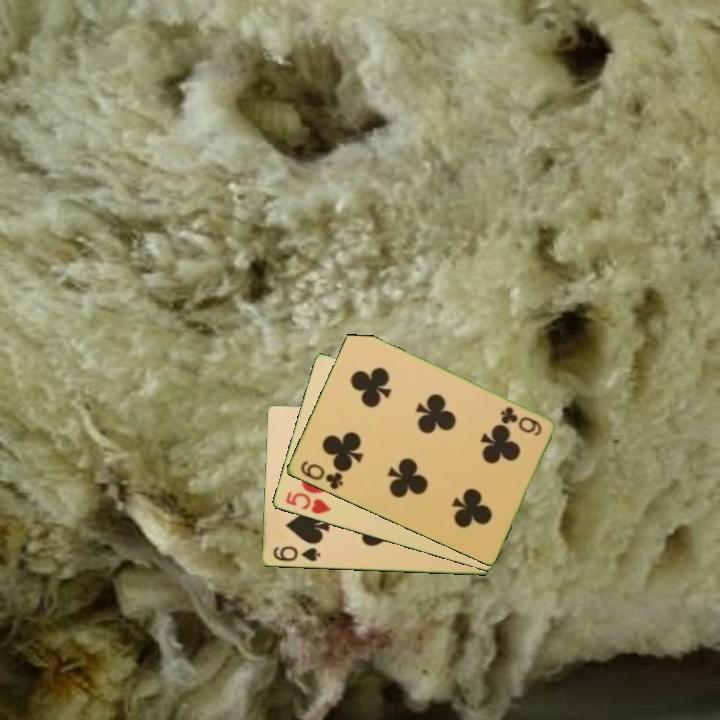5h: (282, 488, 333, 517)
6c: (296, 457, 346, 493), (496, 403, 544, 439)
6s: (269, 543, 323, 565)
